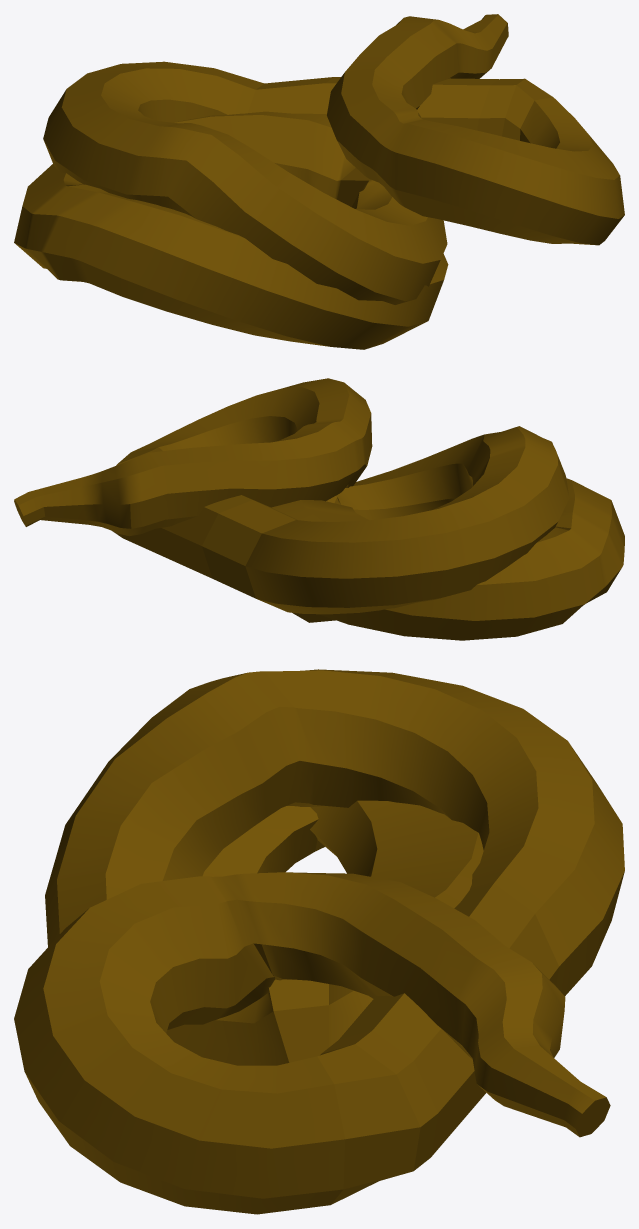
The model's file is Dog Feaces.fbx.
The picture shows the model from 3 angles, top to bottom: view 1: azimuth 30°, elevation 25°; view 2: azimuth 150°, elevation 25°; view 3: azimuth 270°, elevation 25°; orthographic projection. The views are drawn at different scales.
Visible parts, largest first — view 1: pHelix7; view 2: pHelix7; view 3: pHelix7.
Part boxes in pixels (left/top/right/bottom): pHelix7: left=14, top=14, right=624, bottom=349; pHelix7: left=14, top=378, right=624, bottom=640; pHelix7: left=14, top=669, right=624, bottom=1214.
Size of the model in its own units: 3.66 by 1.51 by 2.4.
